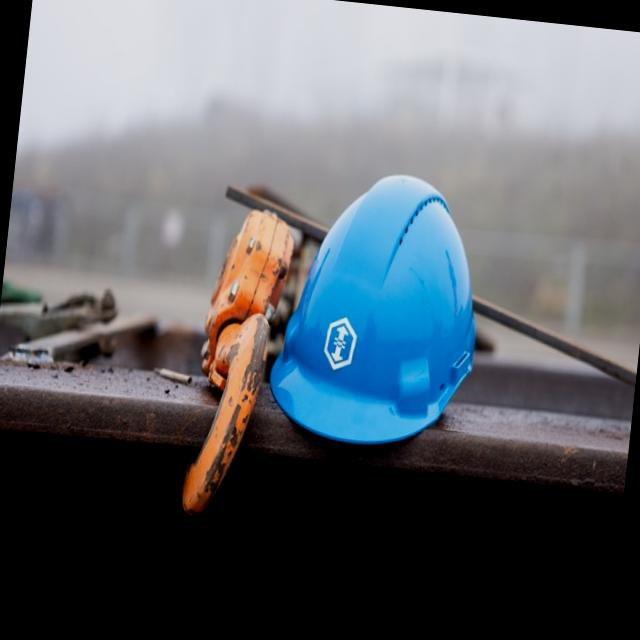helmet: (262, 135, 508, 467)
